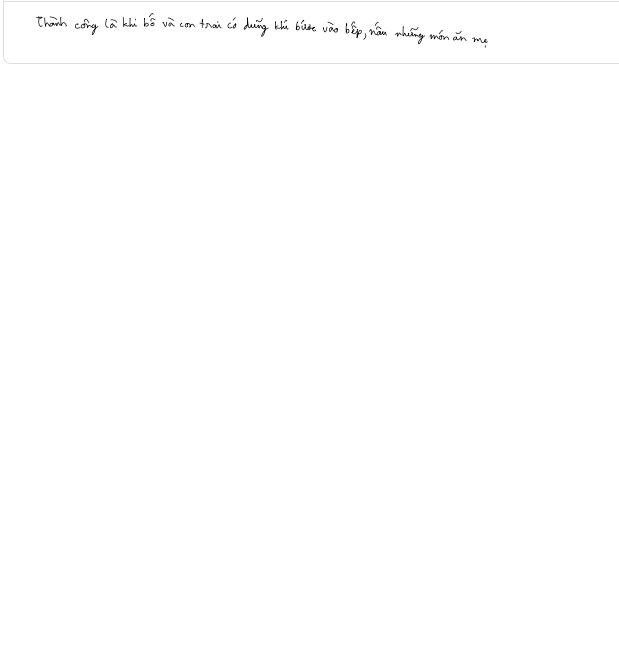text: (33, 9, 492, 51)
